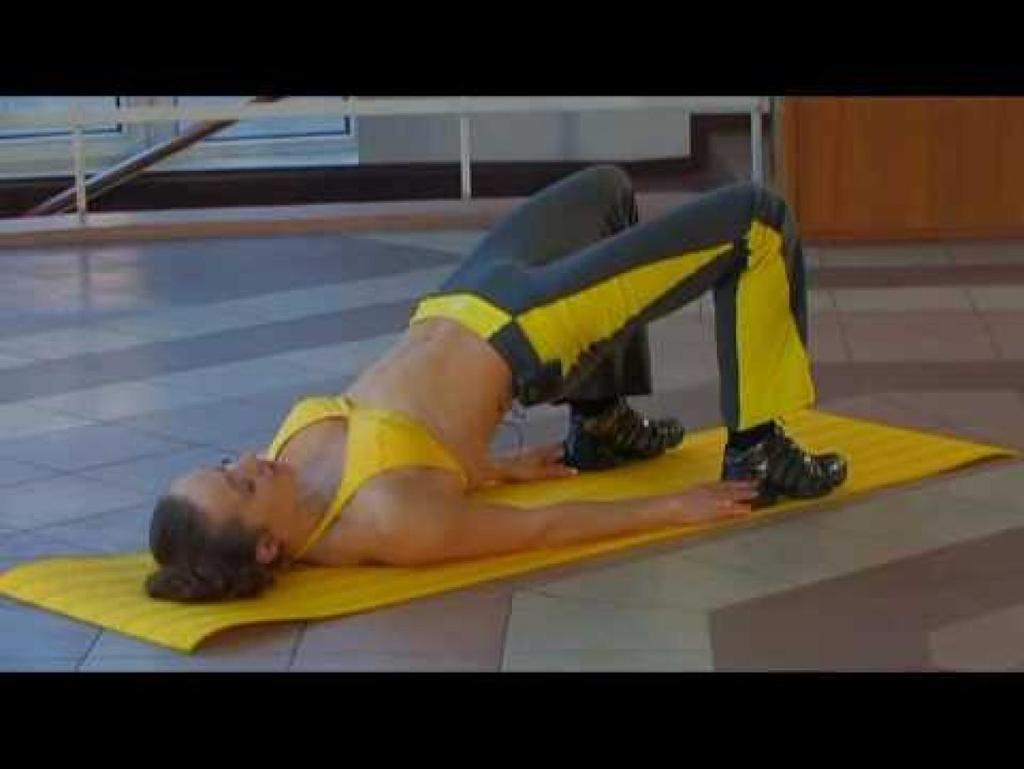face: (173, 449, 303, 531)
